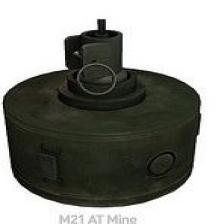M21: (6, 26, 199, 202)
